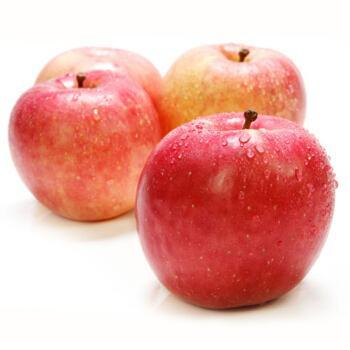apple: (131, 109, 334, 311), (4, 63, 161, 223), (158, 40, 306, 131)
